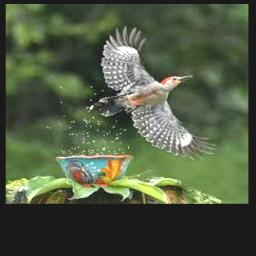Woodpecker: (92, 27, 216, 158)
